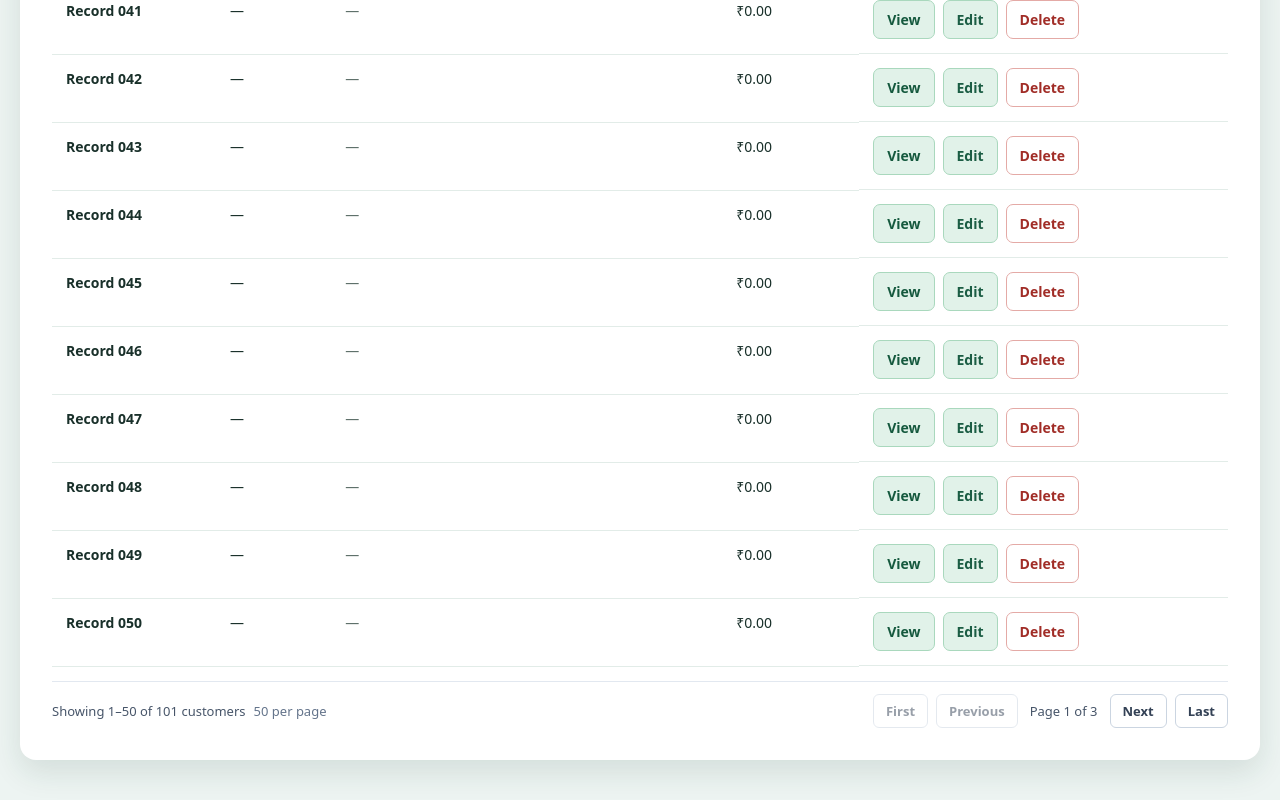
Scenario: customers return to a valid page after deleting the last row
(page scrolled)
Click the button "Last".
click(1201, 710)  # box [1175, 694, 1228, 728]
(page scrolled)
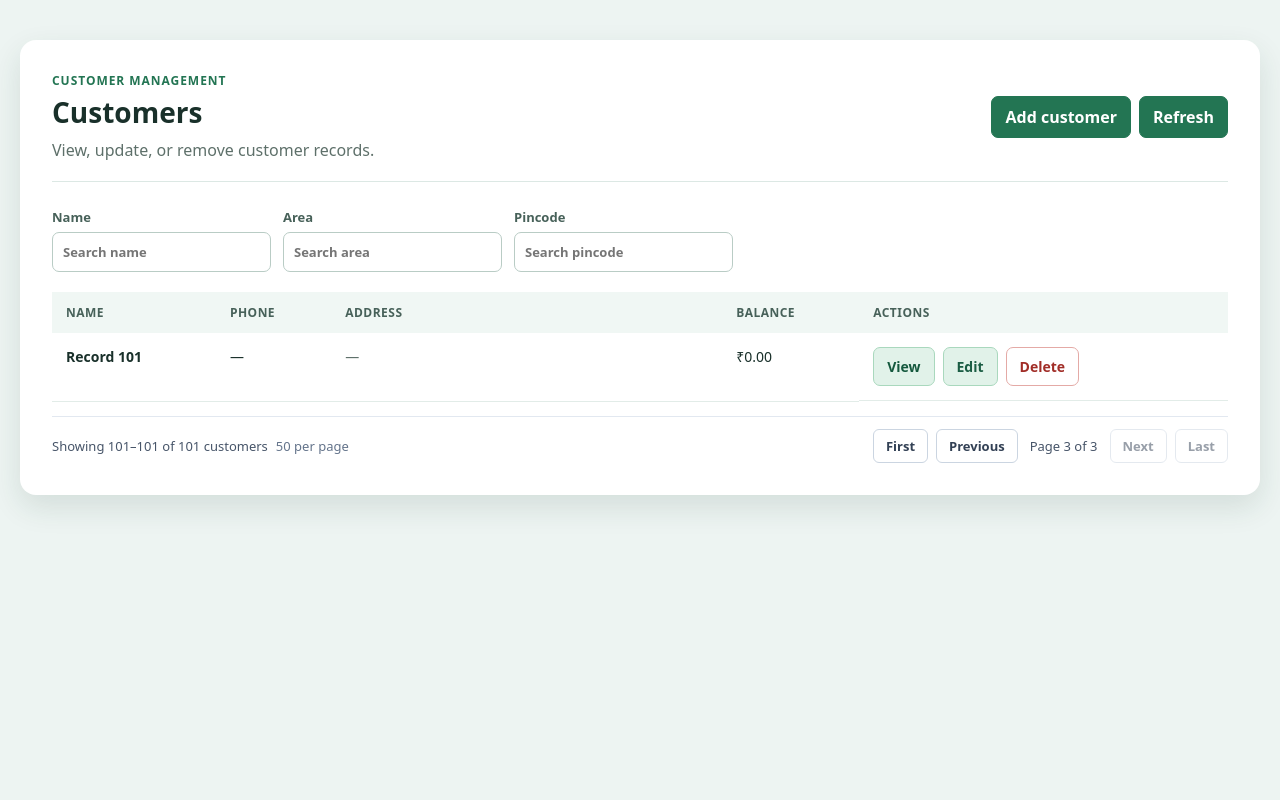
Click the button "Delete".
click(1042, 366)  # box [1006, 347, 1079, 386]
(page scrolled)
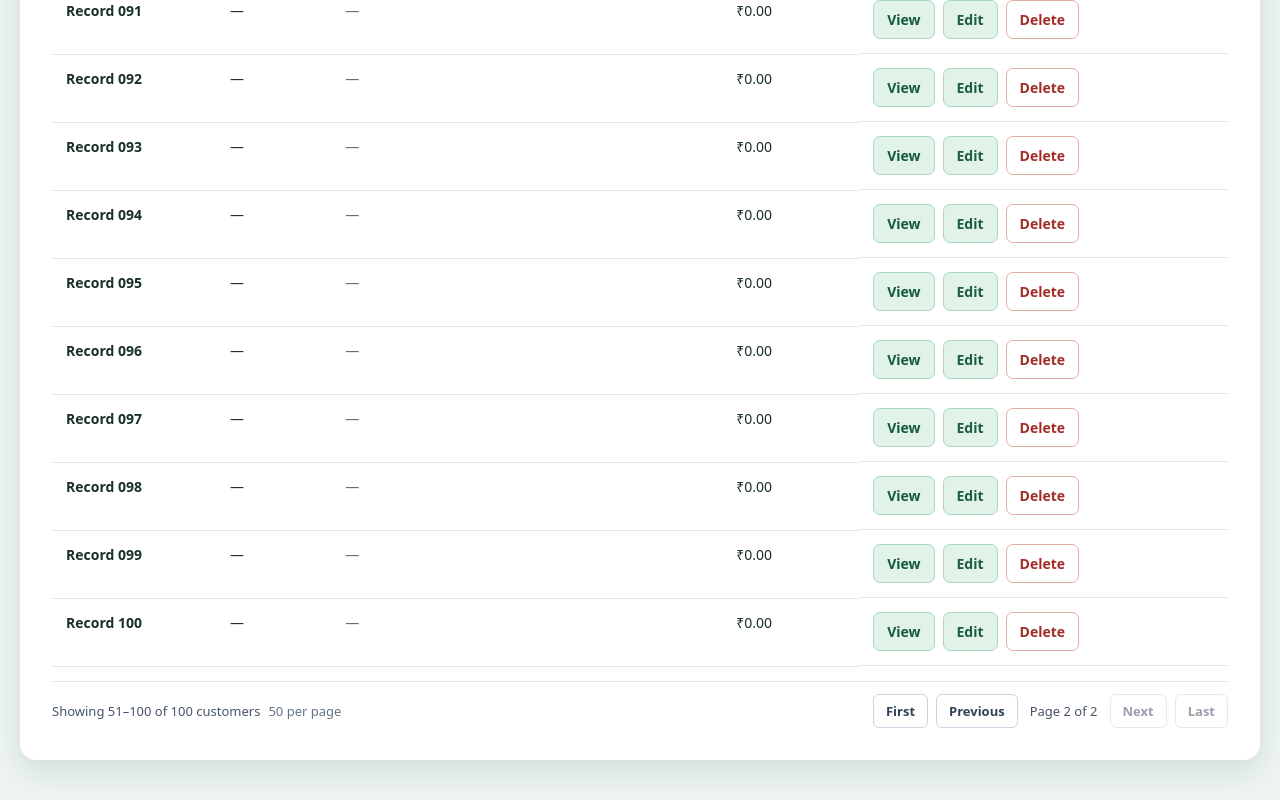
Check: the text "Page 2 of 2" is shown, box [1026, 702, 1102, 720]
Check: the text "Record 101" is gone
